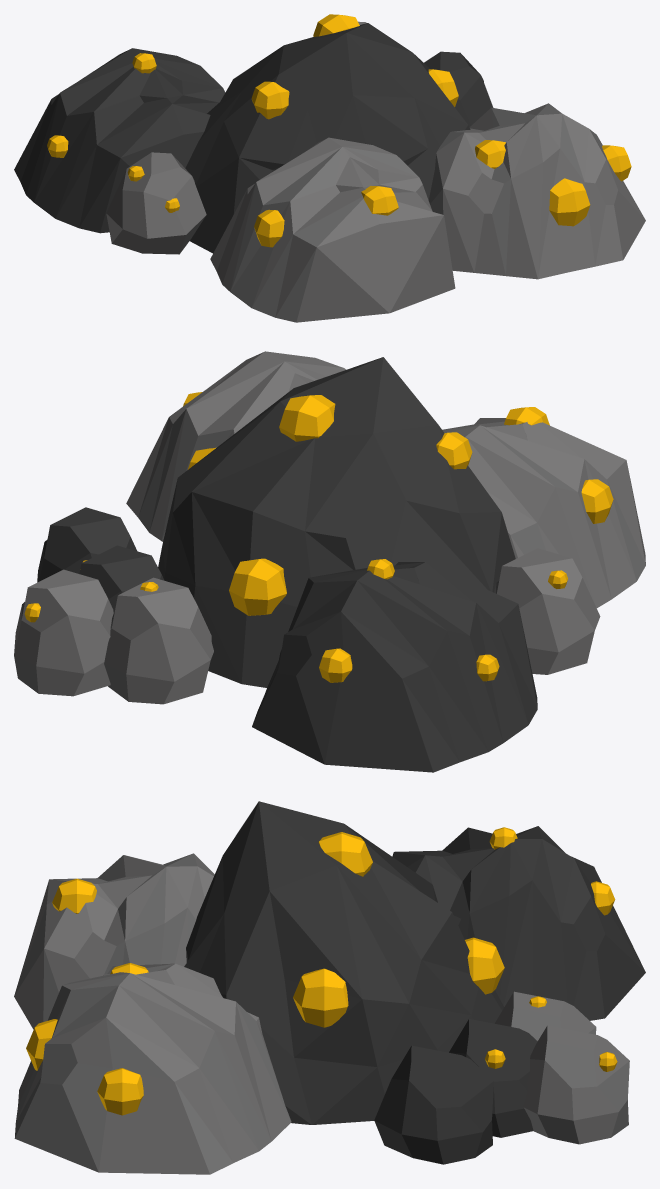
File: stone_gold_2.fbx
3 views of the same model, one above another, from view 1: azimuth 30°, elevation 25°; view 2: azimuth 150°, elevation 25°; view 3: azimuth 270°, elevation 25° (orthographic). The views are drawn at different scales.
Visible parts, largest first — view 1: Cube.012; view 2: Cube.012; view 3: Cube.012.
Boxes of the visible parts, <box> form: Cube.012: <box>14,14,645,322</box>; Cube.012: <box>14,351,645,772</box>; Cube.012: <box>14,801,645,1174</box>.
Size of the model in its own units: 88.69 by 39.36 by 91.27.
